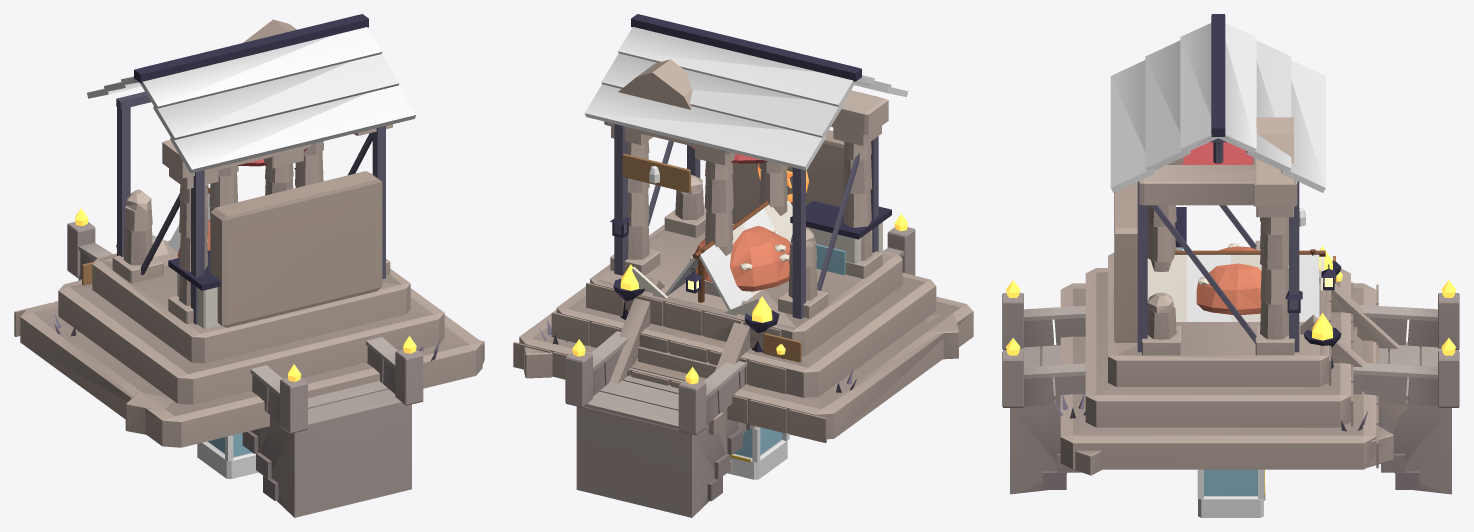
The model's file is props_volcano.glb.
3 renders of one model, left to right at view 1: azimuth 30°, elevation 25°; view 2: azimuth 150°, elevation 25°; view 3: azimuth 270°, elevation 25°, orthographic. The views are drawn at different scales.
Parts seen in each view (by area): view 1: temple__c_d4c1b5, cablestation__tint, temple__c_c7b3a6, stonebridge__c_b8a9a6, cablestation__c_6e6a82, cablestation__c_3d3a55, stonebridge__c_cbbfb8, gondola__tint, stonebridge__c_a8999a, cablestation__c_f6efe2; view 2: temple__c_d4c1b5, cablestation__tint, temple__c_c7b3a6, stonebridge__c_b8a9a6, cablestation__c_6e6a82, cablestation__c_3d3a55, stonebridge__c_cbbfb8, mushroom__c_ef8a6a, camp__tint, gondola__tint, cablestation__c_b98a5e, camp__c_f6efe2 (+8 smaller); view 3: temple__c_d4c1b5, cablestation__tint, stonebridge__c_b8a9a6, temple__c_c7b3a6, stonebridge__c_cbbfb8, cablestation__c_6e6a82, camp__tint, mushroom__c_ef8a6a, cablestation__c_3d3a55, camp__c_f6efe2, gondola__tint, stonebridge__c_a8999a (+5 smaller).
Boxes of the visible parts, box(x1,y1,x2,y2) form: temple__c_d4c1b5: box(20, 124, 484, 447); cablestation__tint: box(87, 27, 415, 173); temple__c_c7b3a6: box(14, 19, 382, 336); stonebridge__c_b8a9a6: box(67, 222, 423, 517); cablestation__c_6e6a82: box(116, 91, 385, 324); cablestation__c_3d3a55: box(134, 14, 368, 290); stonebridge__c_cbbfb8: box(78, 242, 403, 427); gondola__tint: box(197, 435, 258, 478); stonebridge__c_a8999a: box(242, 431, 278, 500); cablestation__c_f6efe2: box(177, 273, 220, 328); temple__c_d4c1b5: box(519, 90, 973, 439); cablestation__tint: box(584, 26, 908, 183); temple__c_c7b3a6: box(513, 59, 844, 442); stonebridge__c_b8a9a6: box(565, 227, 915, 517); cablestation__c_6e6a82: box(614, 90, 878, 318); cablestation__c_3d3a55: box(610, 14, 891, 239); stonebridge__c_cbbfb8: box(585, 247, 904, 429); mushroom__c_ef8a6a: box(694, 225, 790, 291); camp__tint: box(665, 208, 778, 310); gondola__tint: box(727, 426, 789, 479); cablestation__c_b98a5e: box(622, 153, 690, 192); camp__c_f6efe2: box(632, 200, 792, 316); temple__c_d4c1b5: box(1060, 157, 1407, 475); cablestation__tint: box(1110, 23, 1325, 226); stonebridge__c_b8a9a6: box(1002, 293, 1459, 494); temple__c_c7b3a6: box(1114, 117, 1378, 468); stonebridge__c_cbbfb8: box(1019, 305, 1442, 399); cablestation__c_6e6a82: box(1137, 138, 1299, 352); camp__tint: box(1186, 254, 1319, 321); mushroom__c_ef8a6a: box(1196, 246, 1261, 314); cablestation__c_3d3a55: box(1147, 14, 1302, 312); camp__c_f6efe2: box(1147, 250, 1324, 321); gondola__tint: box(1197, 469, 1264, 517); stonebridge__c_a8999a: box(1042, 453, 1419, 489).
Bounding box in the file's own units: 6.39 × 7.54 × 7.24.
